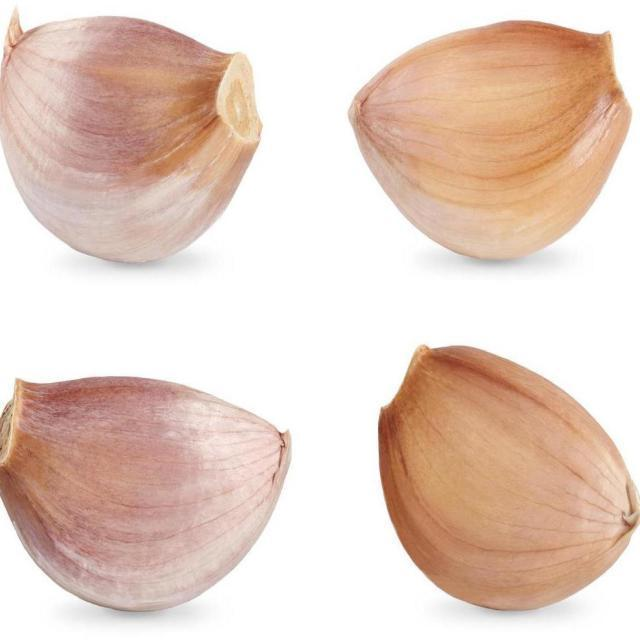garlic: (1, 367, 312, 611), (345, 6, 635, 263), (372, 338, 639, 611), (0, 12, 270, 270)
